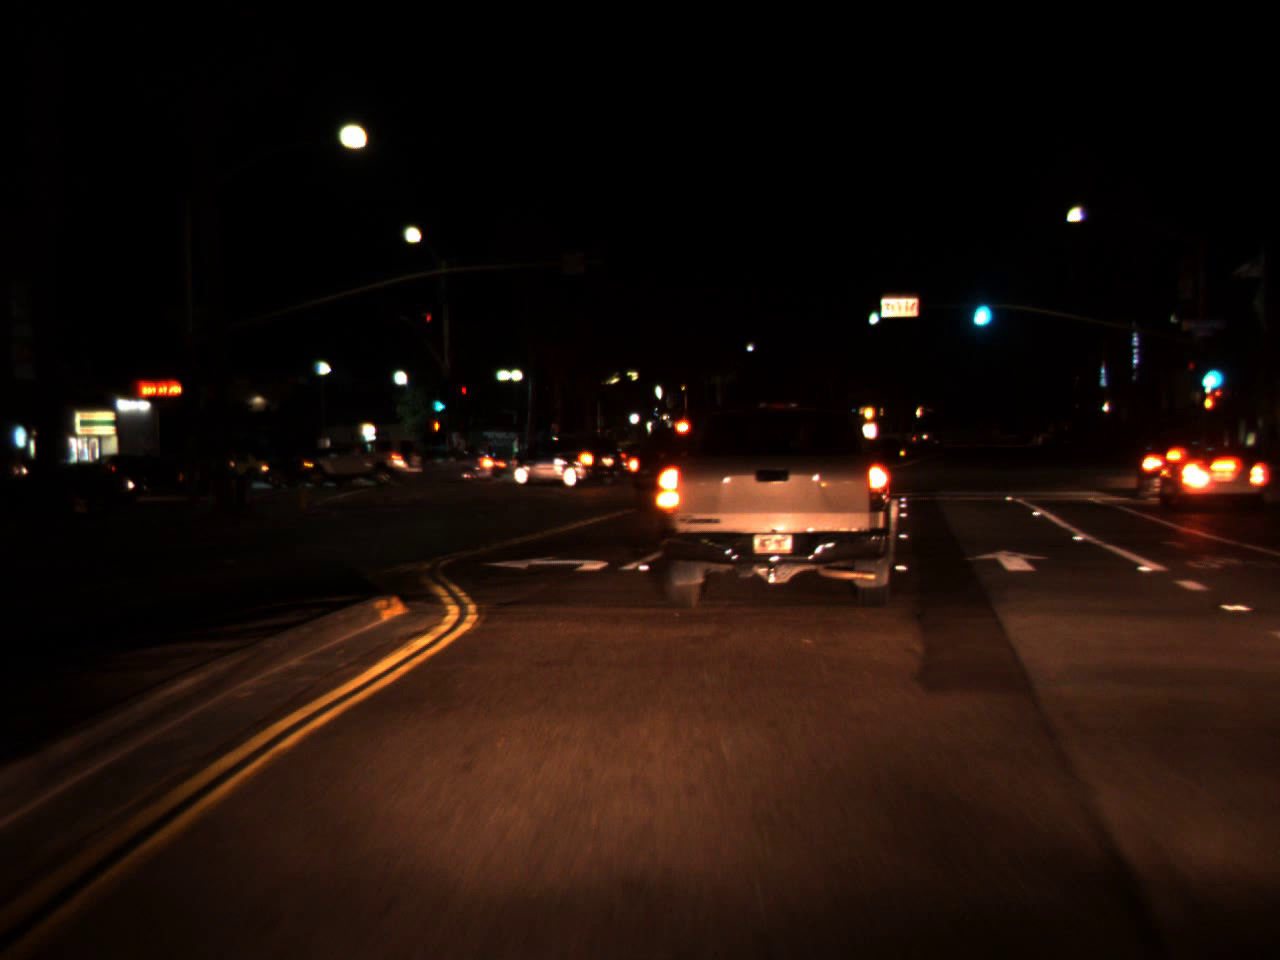go: (967, 281, 994, 332), (1198, 345, 1225, 396), (425, 384, 450, 417), (864, 295, 882, 331)
